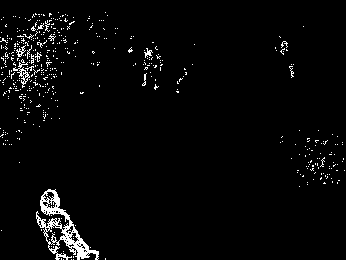person: (34, 187, 103, 259)
